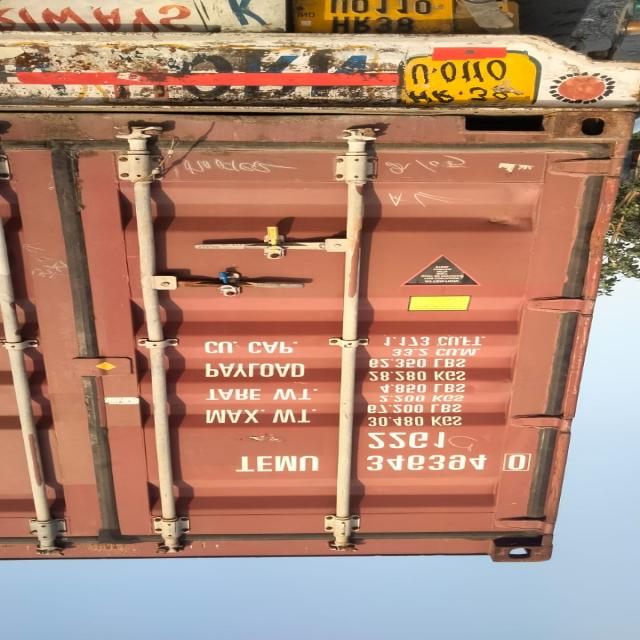License-plate: (404, 49, 529, 108)
